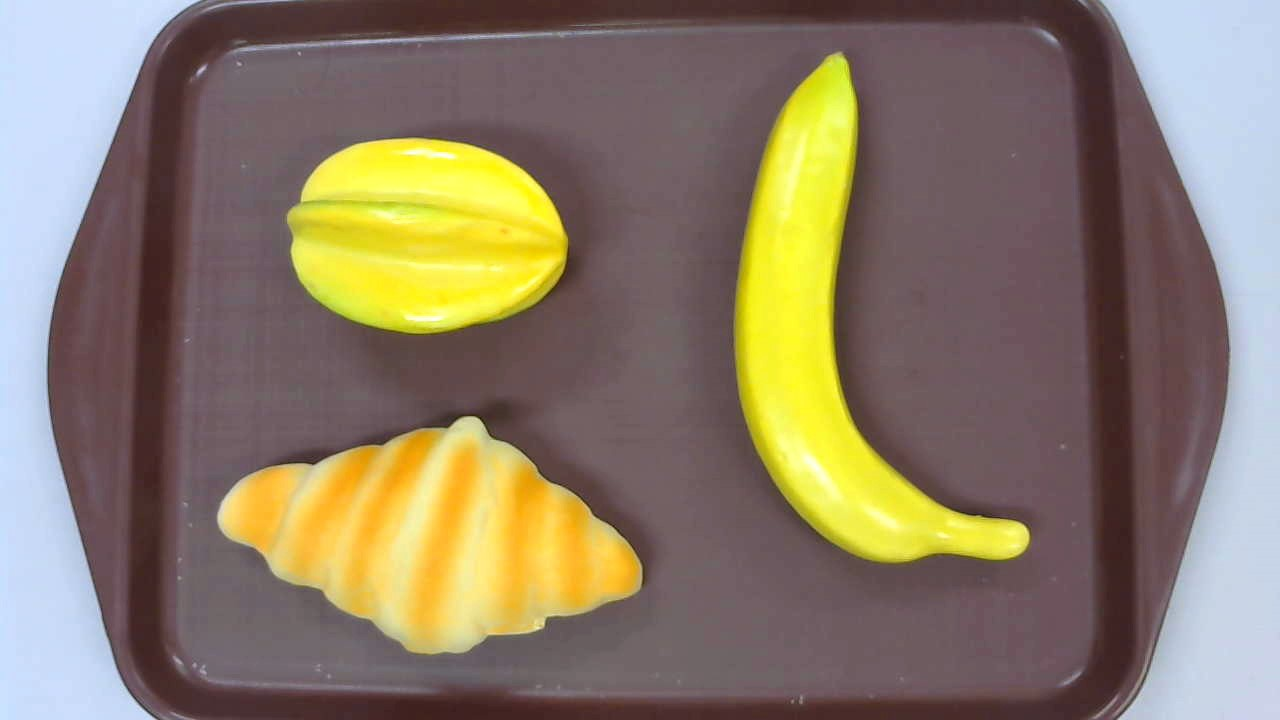banana: (734, 51, 1029, 563)
croissant: (217, 414, 643, 659)
star fruit: (285, 138, 570, 334)
